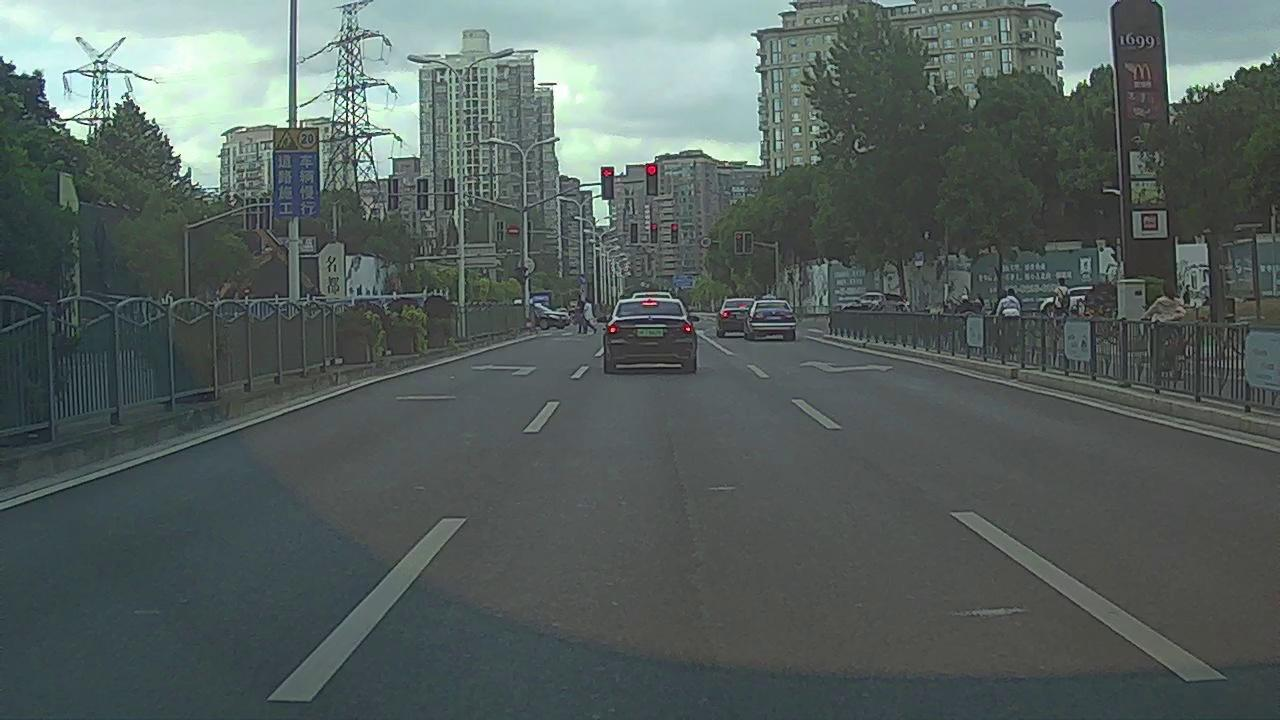traffic_light: (602, 167, 613, 199), (647, 164, 657, 195), (671, 224, 678, 243), (736, 233, 743, 252), (745, 233, 752, 252), (651, 224, 657, 243), (631, 224, 637, 242)
